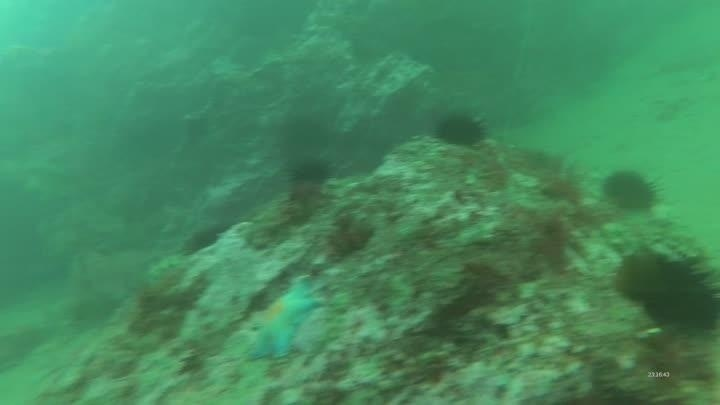echinus: (607, 247, 689, 315), (639, 278, 720, 345), (600, 167, 664, 216), (277, 113, 332, 158), (432, 109, 489, 150), (181, 223, 226, 258), (288, 156, 334, 188)
holothurian: (643, 221, 715, 267)
starfish: (243, 276, 326, 364)
